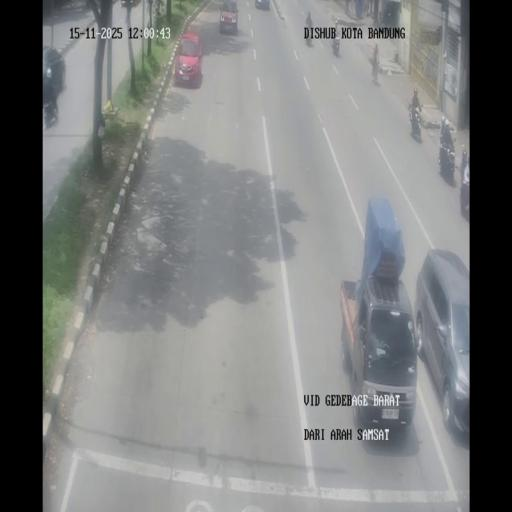car: (414, 252, 470, 439), (175, 32, 203, 87), (42, 45, 66, 92), (218, 0, 238, 34)
motorcycle: (438, 133, 456, 182), (408, 102, 422, 142), (43, 93, 58, 128), (460, 148, 469, 184), (371, 57, 379, 83), (331, 34, 340, 57), (306, 28, 314, 46), (362, 0, 370, 17), (378, 9, 384, 23)
truck: (339, 200, 416, 431)
